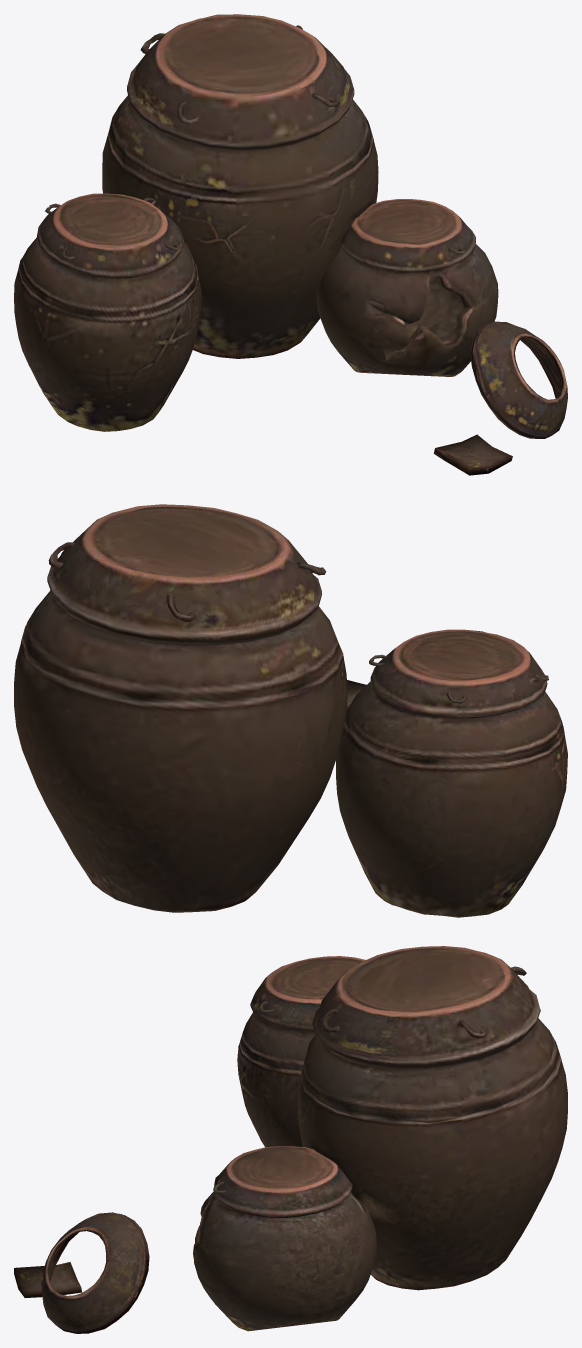
3 renders of one model, top to bottom at view 1: azimuth 30°, elevation 25°; view 2: azimuth 150°, elevation 25°; view 3: azimuth 270°, elevation 25°, orthographic. The views are drawn at different scales.
Parts seen in each view (by area): view 1: tripo_node_a3914442-c651-4183-9d1c-afb8b7200a05; view 2: tripo_node_a3914442-c651-4183-9d1c-afb8b7200a05; view 3: tripo_node_a3914442-c651-4183-9d1c-afb8b7200a05.
Part boxes in pixels (x1,y1,x2,y2): tripo_node_a3914442-c651-4183-9d1c-afb8b7200a05: [14, 14, 567, 475]; tripo_node_a3914442-c651-4183-9d1c-afb8b7200a05: [14, 504, 567, 917]; tripo_node_a3914442-c651-4183-9d1c-afb8b7200a05: [14, 946, 567, 1333].
Bounding box in the file's own units: 0.9121 × 0.5801 × 0.998.
1 material, 1 textured.
